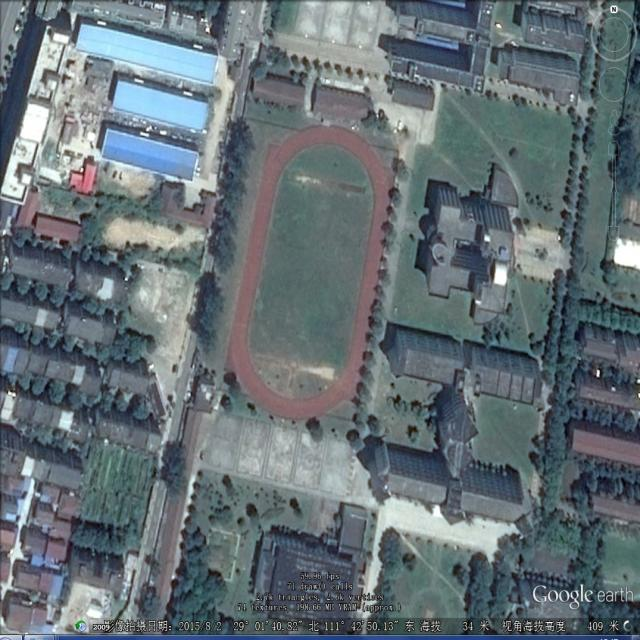playground: (227, 124, 392, 423)
